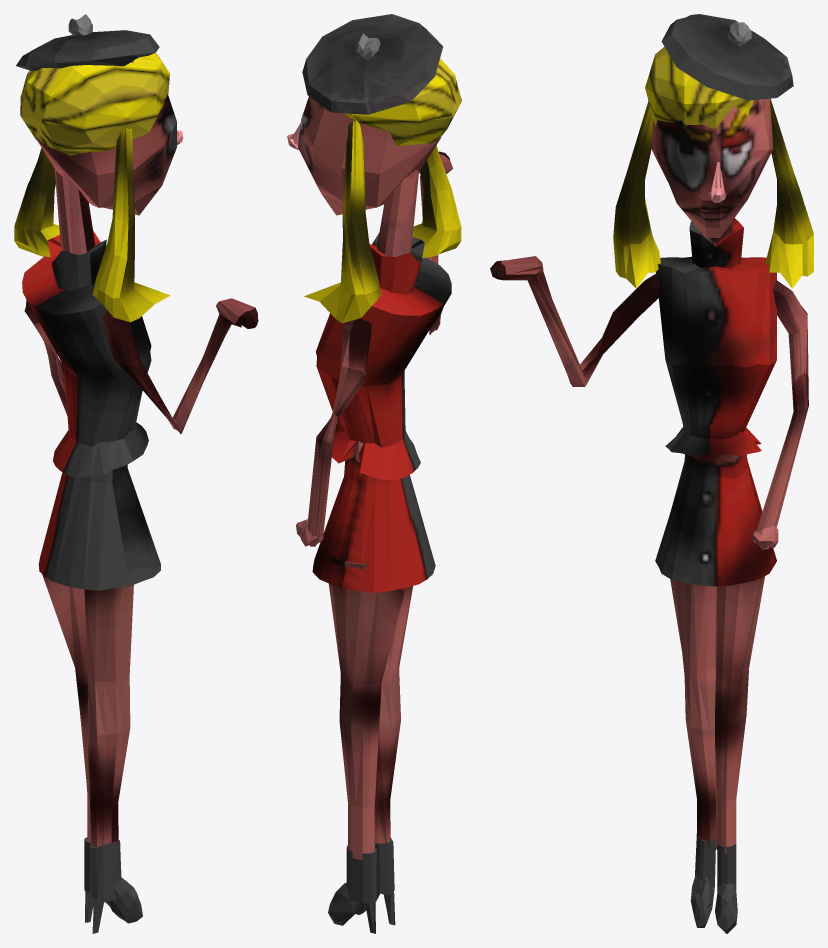
The model's file is RogCof.glb.
3 views of the same model, side by side, from view 1: azimuth 30°, elevation 25°; view 2: azimuth 150°, elevation 25°; view 3: azimuth 270°, elevation 25° (orthographic).
Visible parts, largest first — view 1: RogCof; view 2: RogCof; view 3: RogCof.
Boxes of the visible parts, x1,y1,x2,y2 form: RogCof: (14, 14, 258, 933); RogCof: (287, 14, 461, 933); RogCof: (490, 14, 813, 933).
Size of the model in its own units: 53 by 280 by 92.1.
1 material, 1 textured.
